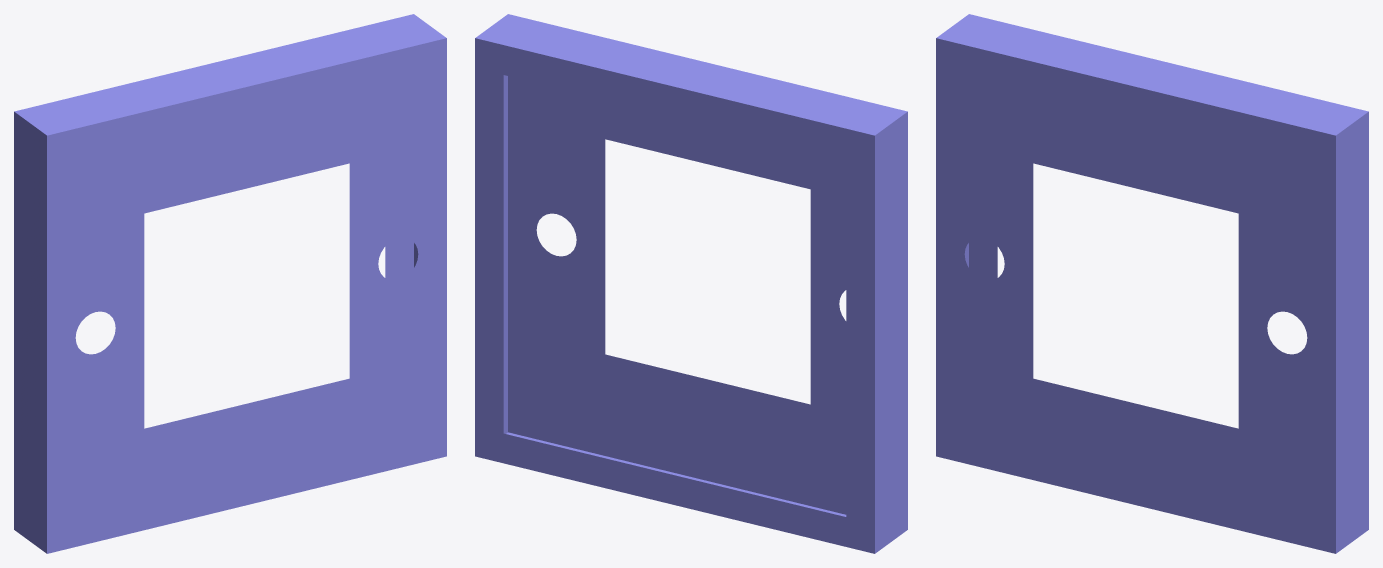
Rendered from original-5.obj.
The picture shows the model from 3 angles, left to right: view 1: azimuth 30°, elevation 25°; view 2: azimuth 150°, elevation 25°; view 3: azimuth 330°, elevation 25°; orthographic projection.
Visible parts, largest first — view 1: #ID25; view 2: #ID25; view 3: #ID25.
Boxes of the visible parts, x1,y1,x2,y2 form: #ID25: [14, 14, 446, 553]; #ID25: [475, 14, 907, 553]; #ID25: [936, 14, 1368, 553].
Bounding box in the file's own units: 1.39 × 1.39 × 0.1986.
